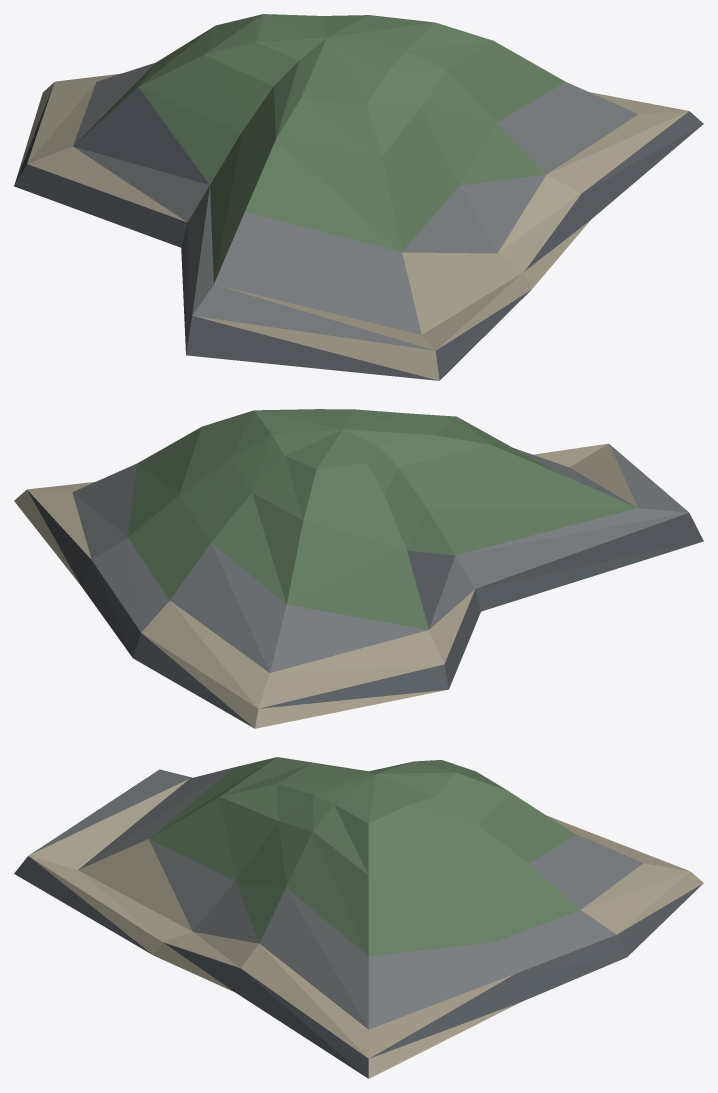
File: dagons_isle_lod1.glb
The picture shows the model from 3 angles, top to bottom: view 1: azimuth 30°, elevation 25°; view 2: azimuth 150°, elevation 25°; view 3: azimuth 270°, elevation 25°; orthographic projection. The views are drawn at different scales.
Size of the model in its own units: 2.31 by 0.6175 by 2.5.
